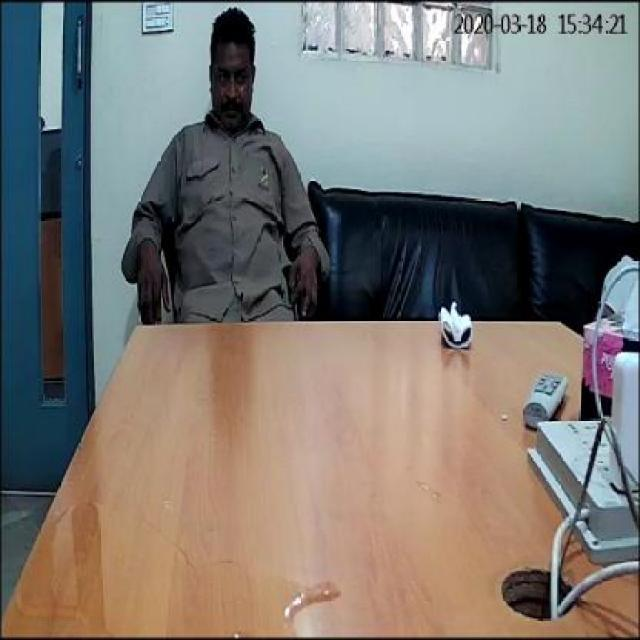spill: (9, 496, 334, 635)
